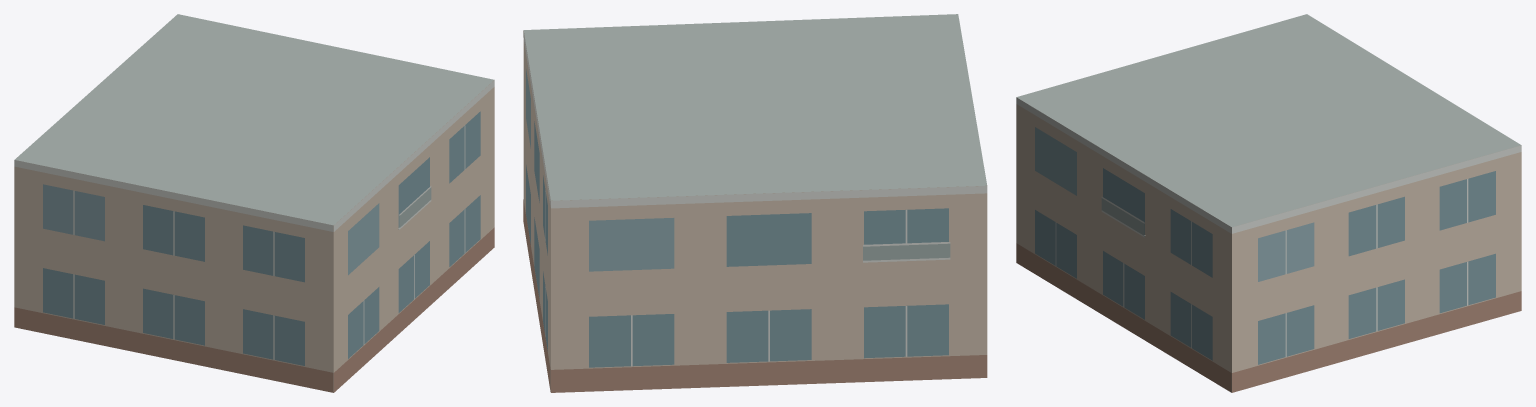
Rendered from survey-upis-33000202.glb.
3 renders of one model, left to right at view 1: azimuth 30°, elevation 25°; view 2: azimuth 150°, elevation 25°; view 3: azimuth 270°, elevation 25°, orthographic. The views are drawn at different scales.
Parts seen in each view (by area): view 1: survey-upis-33000202.tmp; view 2: survey-upis-33000202.tmp; view 3: survey-upis-33000202.tmp.
Part boxes in pixels (x1=…): survey-upis-33000202.tmp: x1=14, y1=14, x2=494, y2=392; survey-upis-33000202.tmp: x1=523, y1=14, x2=987, y2=392; survey-upis-33000202.tmp: x1=1016, y1=14, x2=1521, y2=392.
Bounding box in the file's own units: 16.87 × 6.1 × 16.89.
